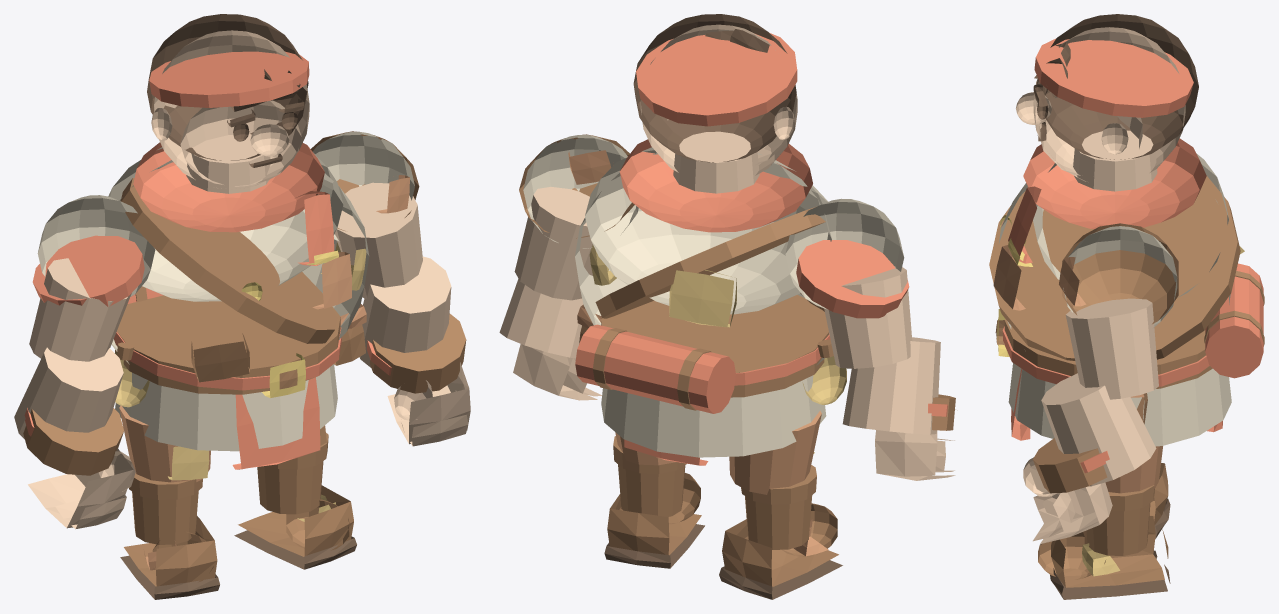
The model's file is coloso.glb.
The picture shows the model from 3 angles, left to right: view 1: azimuth 30°, elevation 25°; view 2: azimuth 150°, elevation 25°; view 3: azimuth 270°, elevation 25°; orthographic projection.
Visible parts, largest first — view 1: Coloso; view 2: Coloso; view 3: Coloso.
Boxes of the visible parts, x1,y1,x2,y2 form: Coloso: [14, 14, 470, 599]; Coloso: [499, 14, 957, 599]; Coloso: [989, 14, 1264, 599].
Bounding box in the file's own units: 1.85 × 2.21 × 1.04.
